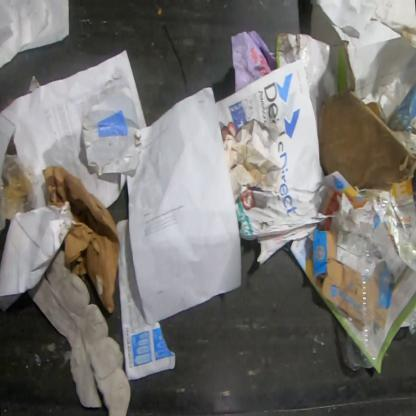cardboard: (27, 247, 132, 415), (42, 166, 121, 314), (318, 91, 415, 192), (274, 30, 356, 130), (82, 84, 142, 178), (369, 174, 415, 274), (306, 227, 350, 312), (318, 184, 368, 216), (388, 83, 416, 133), (320, 217, 333, 230)
rigid_plastic: (341, 231, 391, 374)
soft_plastic: (0, 151, 41, 222), (403, 305, 415, 336)
